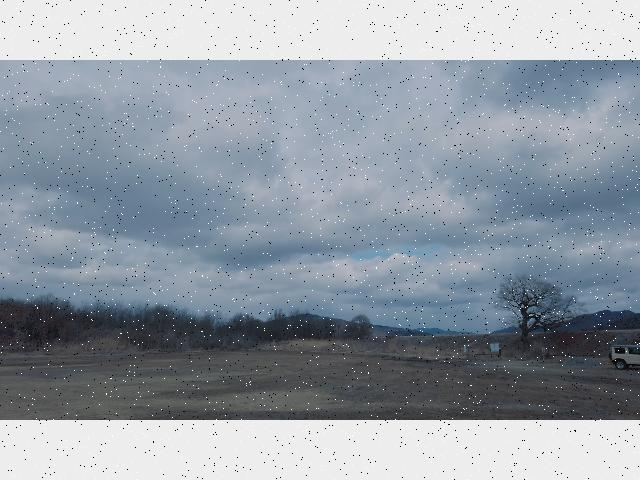Anti-Drone: (350, 197, 360, 206)
